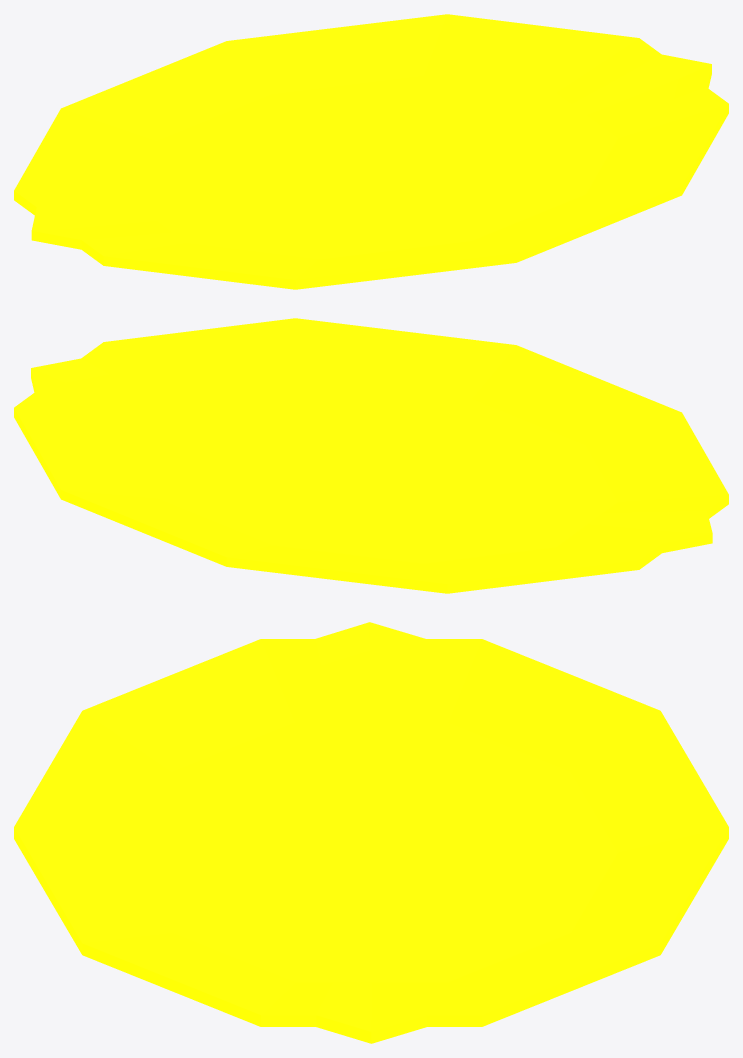
The model's file is tray-christmas.glb.
The picture shows the model from 3 angles, top to bottom: view 1: azimuth 30°, elevation 25°; view 2: azimuth 150°, elevation 25°; view 3: azimuth 270°, elevation 25°; orthographic projection. The views are drawn at different scales.
Visible parts, largest first — view 1: tray_christmas; view 2: tray_christmas; view 3: tray_christmas.
Boxes of the visible parts, box(x1,y1,x2,y2) form: tray_christmas: box(14, 14, 728, 289); tray_christmas: box(14, 318, 728, 593); tray_christmas: box(14, 622, 728, 1043).
Bounding box in the file's own units: 0.6003 × 0.0256 × 0.4426.
Materials: 1 (1 with a texture image).
